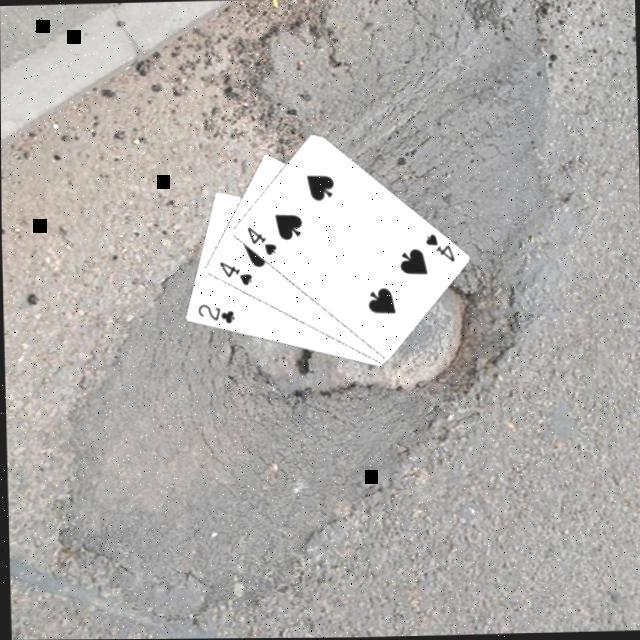2C: (195, 300, 238, 327)
4S: (243, 222, 279, 258), (422, 228, 458, 264), (215, 257, 254, 288)
